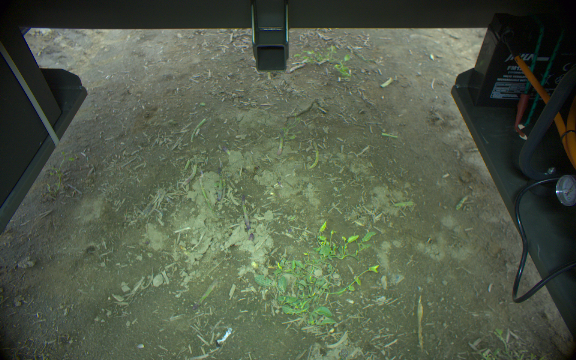aspa: (193, 278, 222, 311), (196, 170, 214, 214), (240, 191, 255, 240), (188, 116, 206, 143), (308, 140, 321, 171), (183, 165, 199, 186), (215, 165, 224, 200), (275, 127, 284, 155)
